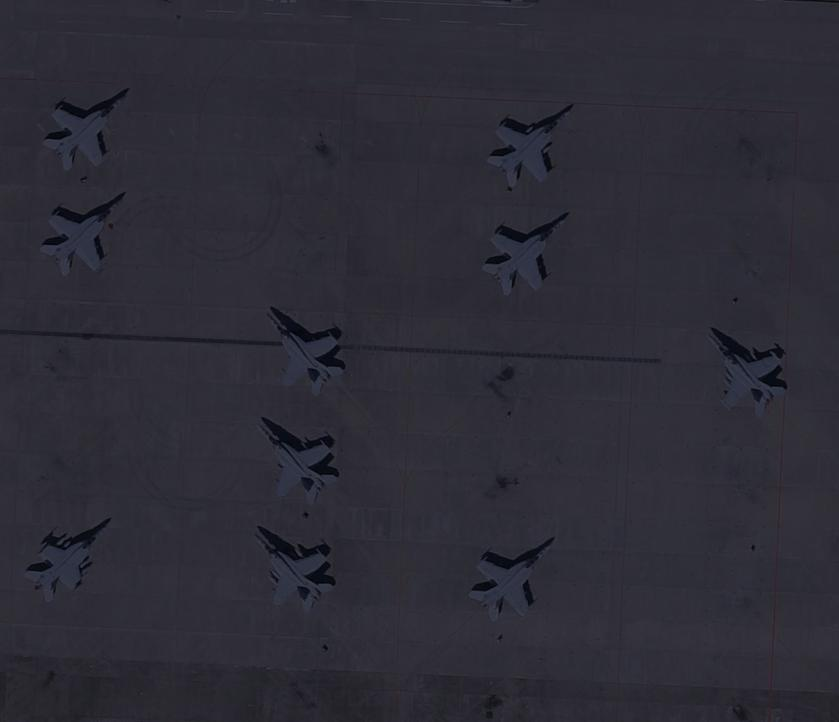A16: (35, 77, 136, 171), (34, 187, 135, 281), (16, 512, 117, 606), (242, 417, 343, 511), (239, 523, 340, 617), (462, 532, 563, 626), (478, 102, 579, 196), (472, 202, 573, 296), (697, 320, 798, 414), (254, 300, 350, 392)
